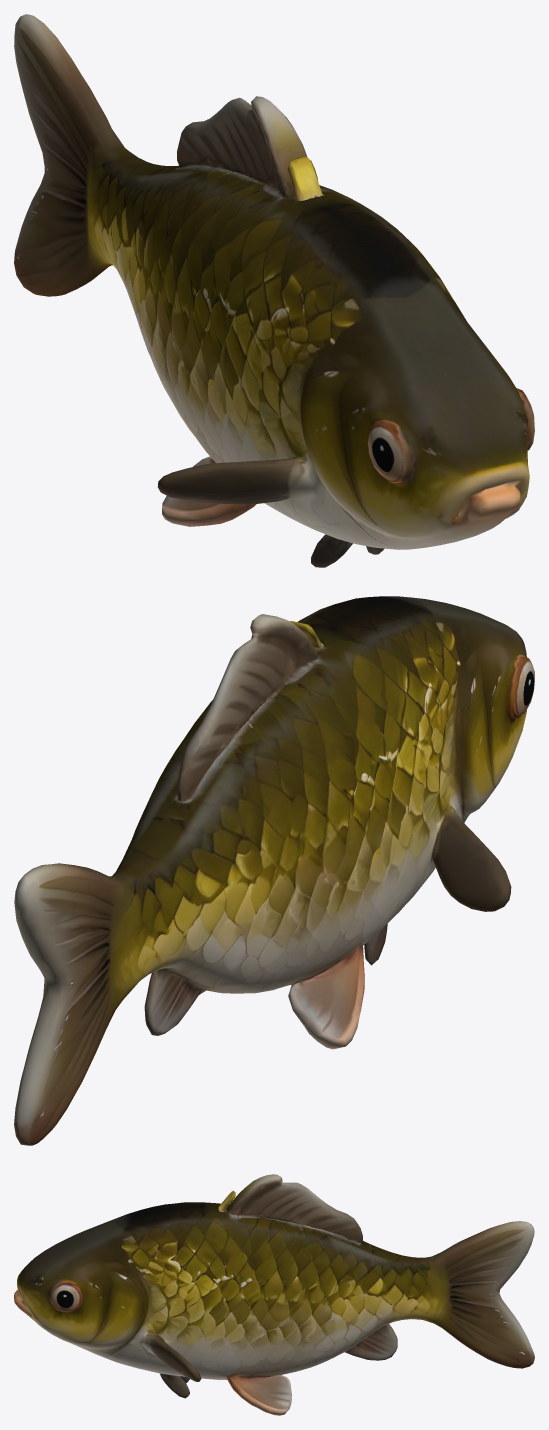
The model's file is crucian.glb.
3 renders of one model, top to bottom at view 1: azimuth 30°, elevation 25°; view 2: azimuth 150°, elevation 25°; view 3: azimuth 270°, elevation 25°, orthographic. The views are drawn at different scales.
Parts seen in each view (by area): view 1: tripo_node_aa9b3230-73e4-409c-89b7-68ceb030a3f5; view 2: tripo_node_aa9b3230-73e4-409c-89b7-68ceb030a3f5; view 3: tripo_node_aa9b3230-73e4-409c-89b7-68ceb030a3f5.
Boxes of the visible parts, x1,y1,x2,y2 form: tripo_node_aa9b3230-73e4-409c-89b7-68ceb030a3f5: (14, 14, 534, 567); tripo_node_aa9b3230-73e4-409c-89b7-68ceb030a3f5: (14, 596, 534, 1145); tripo_node_aa9b3230-73e4-409c-89b7-68ceb030a3f5: (14, 1174, 534, 1415).
Size of the model in its own units: 0.4151 by 0.4619 by 1.
Materials: 1 (1 with a texture image).
